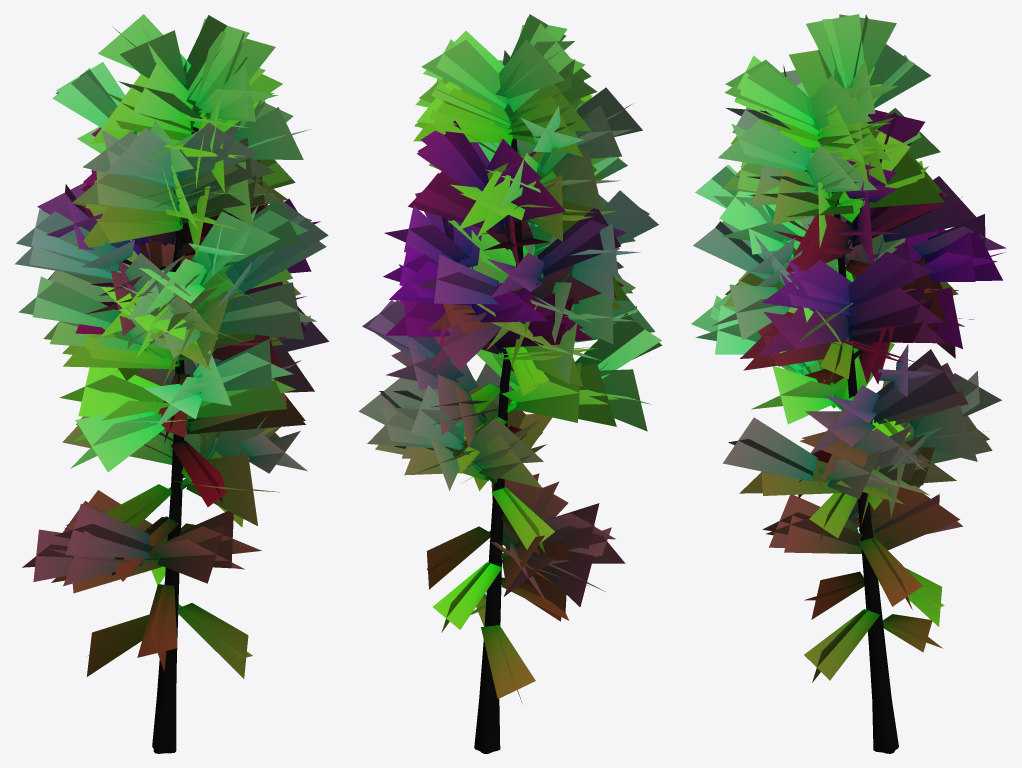
Rendered from M_Realistic21_3.fbx.
3 renders of one model, left to right at view 1: azimuth 30°, elevation 25°; view 2: azimuth 150°, elevation 25°; view 3: azimuth 270°, elevation 25°, orthographic. The views are drawn at different scales.
Parts seen in each view (by area): view 1: Tree_3; view 2: Tree_3; view 3: Tree_3.
Boxes of the visible parts, box(x1,y1,x2,y2) form: Tree_3: box(14, 14, 328, 753); Tree_3: box(358, 14, 662, 753); Tree_3: box(691, 14, 1006, 753).
Bounding box in the file's own units: 1056 × 2649 × 1057.
